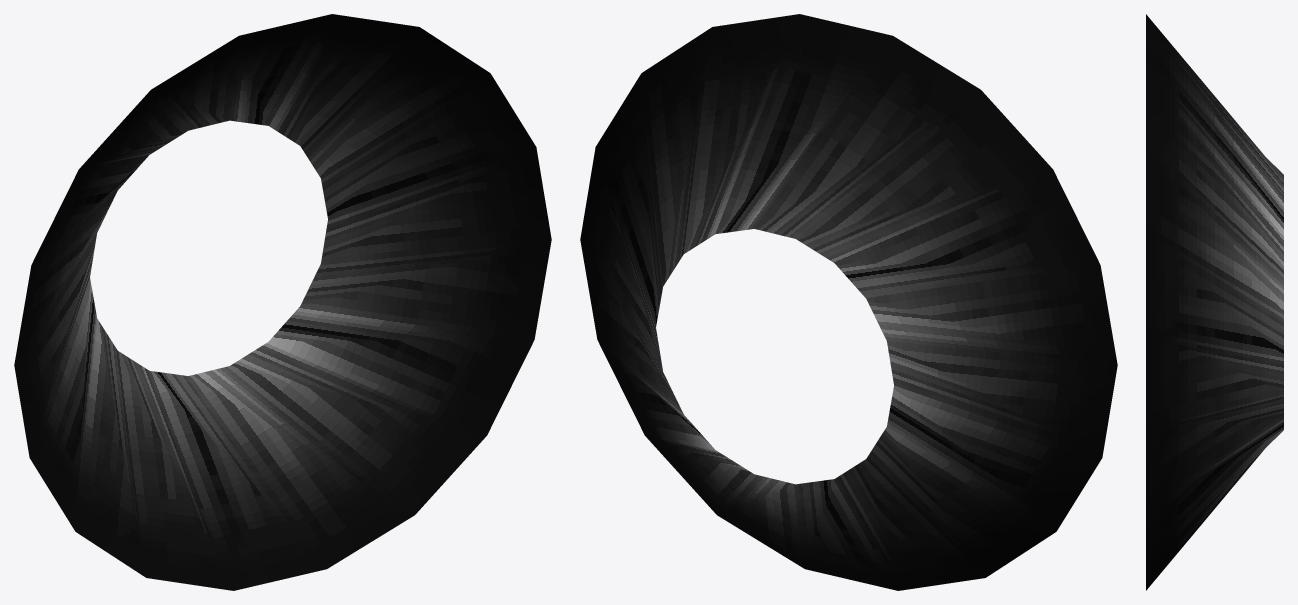
The model's file is Suhwanzin22.glb.
3 renders of one model, left to right at view 1: azimuth 30°, elevation 25°; view 2: azimuth 150°, elevation 25°; view 3: azimuth 270°, elevation 25°, orthographic. The views are drawn at different scales.
Visible parts, largest first — view 1: model_Suhwanzin22; view 2: model_Suhwanzin22; view 3: model_Suhwanzin22.
Boxes of the visible parts, <box> form: model_Suhwanzin22: <box>14,14,551,590</box>; model_Suhwanzin22: <box>580,14,1117,590</box>; model_Suhwanzin22: <box>1146,14,1283,590</box>.
Size of the model in its own units: 5.86 by 5.78 by 1.4.
1 material, 1 textured.
